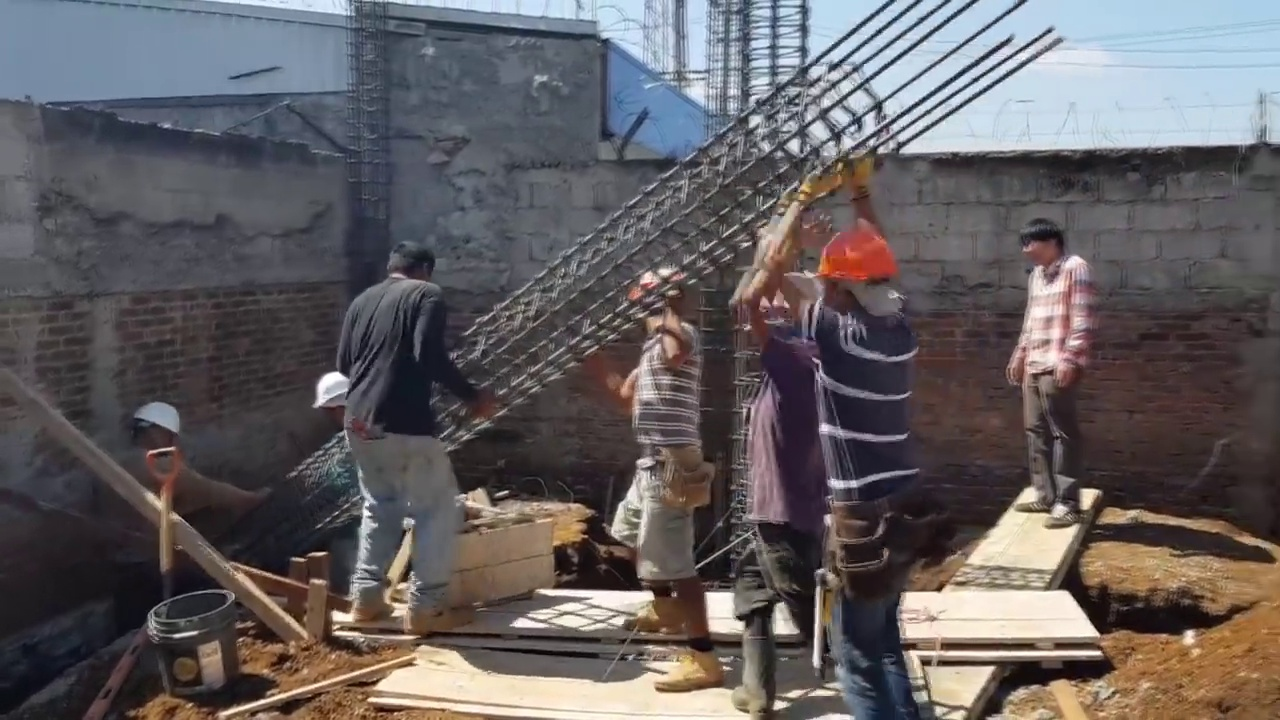helmet: (816, 215, 896, 281), (127, 402, 180, 434), (637, 272, 683, 301), (314, 375, 350, 408)
helmet-off: (381, 243, 433, 289), (1028, 220, 1072, 268)
helmet-on: (814, 214, 906, 322), (125, 402, 178, 472), (630, 268, 687, 323), (313, 377, 350, 432)
person: (795, 213, 927, 720), (323, 234, 485, 647), (736, 205, 836, 717), (602, 271, 710, 679), (1008, 227, 1105, 536), (115, 403, 268, 579)
